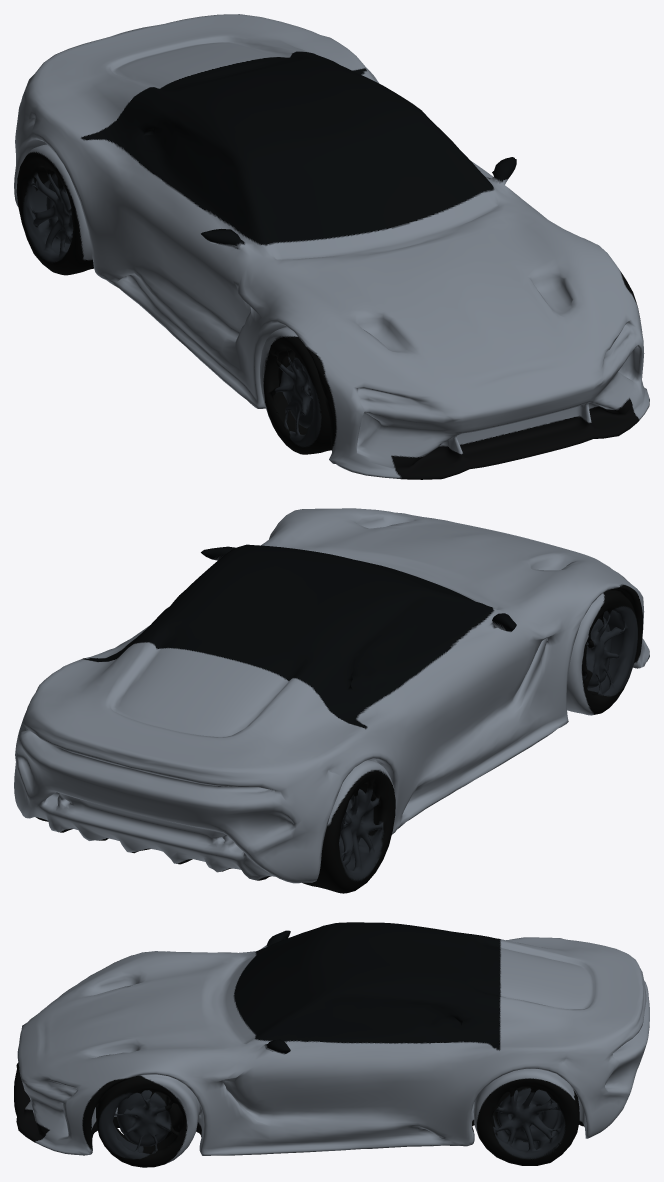
Rendered from car-refined.glb.
3 renders of one model, top to bottom at view 1: azimuth 30°, elevation 25°; view 2: azimuth 150°, elevation 25°; view 3: azimuth 270°, elevation 25°, orthographic. The views are drawn at different scales.
Visible parts, largest first — view 1: Car | Original Hyper3D geometry; view 2: Car | Original Hyper3D geometry; view 3: Car | Original Hyper3D geometry.
Part boxes in pixels (x1,y1,x2,y2): Car | Original Hyper3D geometry: [14, 14, 649, 479]; Car | Original Hyper3D geometry: [14, 508, 649, 893]; Car | Original Hyper3D geometry: [14, 922, 649, 1167].
Bounding box in the file's own units: 2.19 × 1.3 × 4.75.
Materials: 5 (5 with a texture image).
